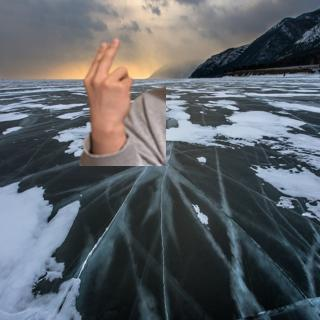DHAVE: (76, 34, 137, 129)
